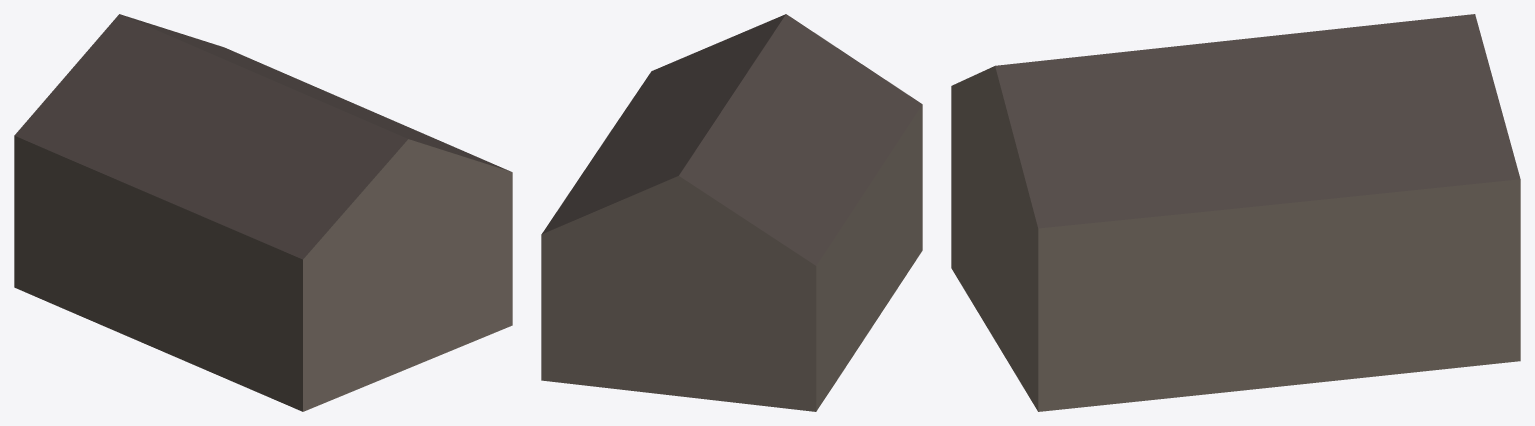
3 views of the same model, side by side, from view 1: azimuth 30°, elevation 25°; view 2: azimuth 150°, elevation 25°; view 3: azimuth 270°, elevation 25° (orthographic). The views are drawn at different scales.
Parts seen in each view (by area): view 1: HP-w1198723274; view 2: HP-w1198723274; view 3: HP-w1198723274.
Part boxes in pixels (box(x1,y1,x2,y2)): HP-w1198723274: box(14, 14, 512, 411); HP-w1198723274: box(541, 14, 922, 411); HP-w1198723274: box(951, 14, 1520, 411).
Size of the model in its own units: 13.84 by 9.06 by 17.01.
